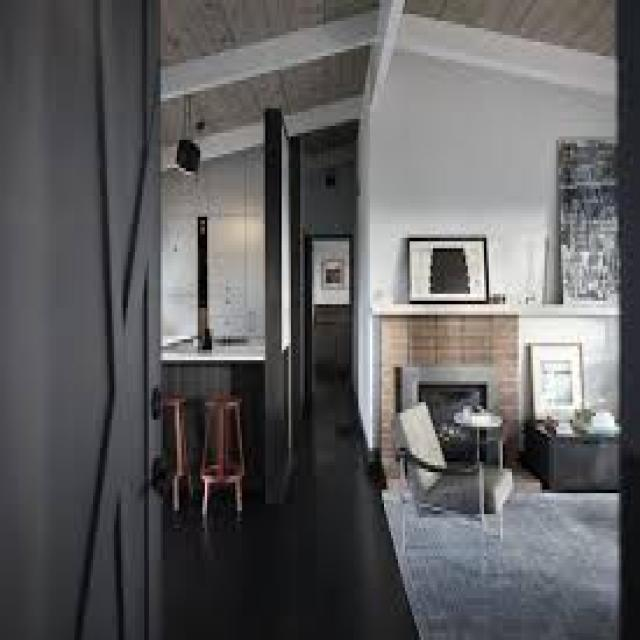Chair: (392, 410, 507, 584), (165, 389, 253, 508)
Lamp: (174, 95, 202, 184)
Table: (529, 407, 629, 493)
